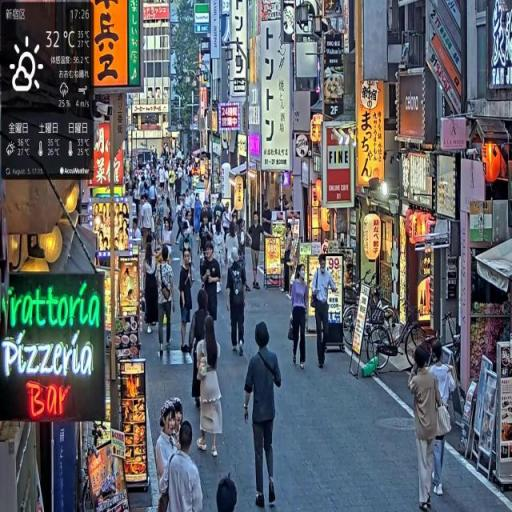person: (244, 321, 283, 511), (409, 345, 446, 512), (431, 340, 458, 499), (196, 323, 224, 462), (311, 248, 340, 373), (168, 420, 204, 512), (188, 290, 216, 407), (156, 399, 184, 512), (156, 244, 177, 361), (288, 265, 311, 371), (227, 249, 249, 359), (180, 247, 197, 358), (201, 242, 222, 324), (248, 212, 265, 292)
